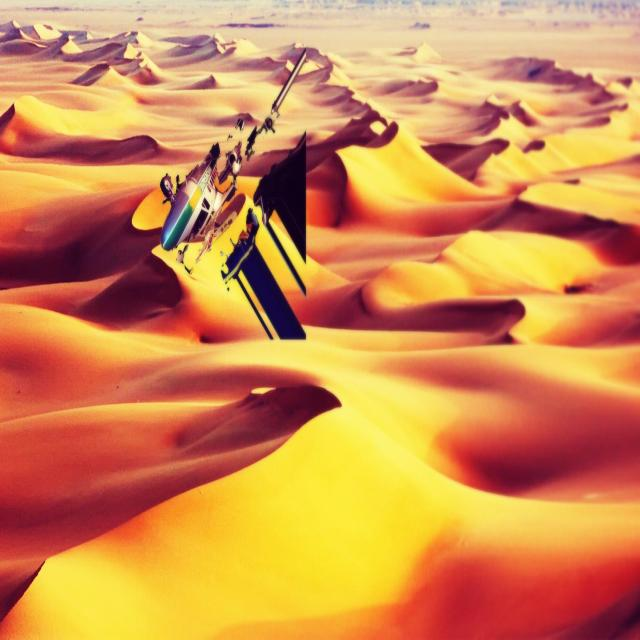airplane: (158, 50, 306, 342)
